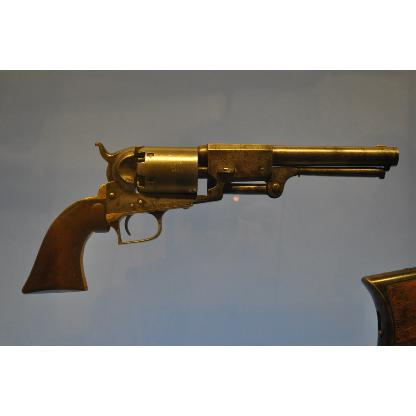gun: (21, 141, 400, 293)
